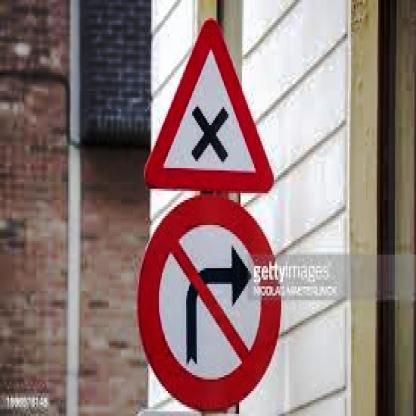No right turn: (133, 196, 286, 407)
